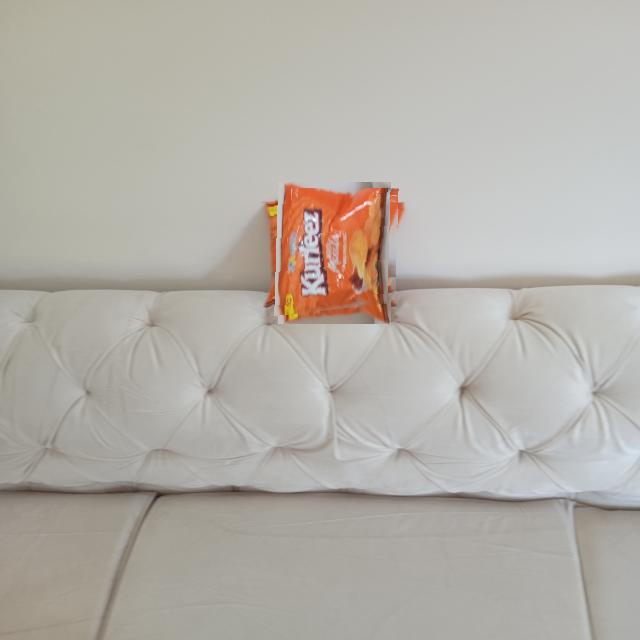Plastic: (270, 188, 399, 317)
